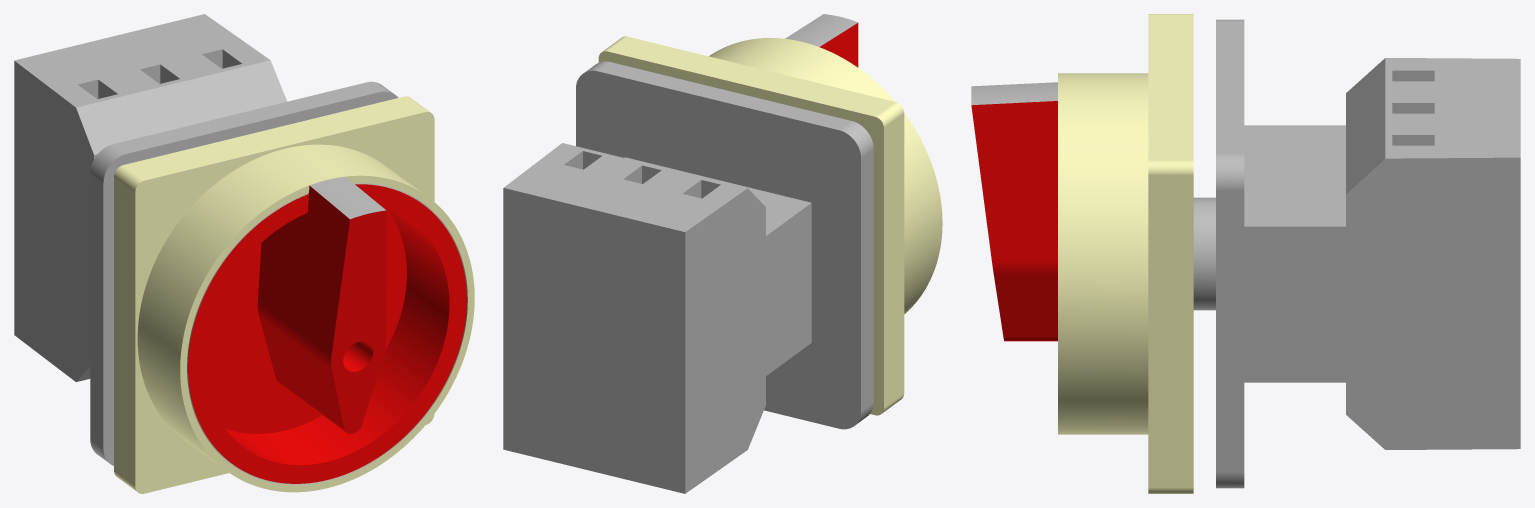
File: GLD11-25.glb
3 views of the same model, side by side, from view 1: azimuth 30°, elevation 25°; view 2: azimuth 150°, elevation 25°; view 3: azimuth 270°, elevation 25° (orthographic). The views are drawn at different scales.
Parts seen in each view (by area): view 1: _GLD11-25_54, _GLD11-25_55, _GLD11-25_10, _GLD11-25_111, _GLD11-25_109, _GLD11-25_15, _GLD11-25_61, _GLD11-25_100, _GLD11-25_60, _GLD11-25_99, _GLD11-25_90, _GLD11-25_44 (+12 smaller); view 2: _GLD11-25_62, _GLD11-25_33, _GLD11-25_54, _GLD11-25_61, _GLD11-25_10, _GLD11-25_38, _GLD11-25_34, _GLD11-25_44, _GLD11-25_46, _GLD11-25_25, _GLD11-25_23, _GLD11-25_65 (+4 smaller); view 3: _GLD11-25_52, _GLD11-25_10, _GLD11-25_36, _GLD11-25_40, _GLD11-25_61, _GLD11-25_101, _GLD11-25_35, _GLD11-25_65, _GLD11-25_21, _GLD11-25_46, _GLD11-25_60, _GLD11-25_23 (+7 smaller).
Boxes of the visible parts, x1,y1,x2,y2 form: _GLD11-25_54: (14,61,93,381); _GLD11-25_55: (135,112,434,493); _GLD11-25_10: (137,144,423,369); _GLD11-25_111: (188,184,466,483); _GLD11-25_109: (205,206,406,433); _GLD11-25_15: (226,273,449,464); _GLD11-25_61: (14,14,270,107); _GLD11-25_100: (258,185,349,355); _GLD11-25_60: (76,60,287,154); _GLD11-25_99: (331,210,386,433); _GLD11-25_90: (180,175,474,492); _GLD11-25_44: (114,177,135,485); _GLD11-25_62: (503,188,685,493); _GLD11-25_33: (576,70,860,429); _GLD11-25_54: (685,188,765,493); _GLD11-25_61: (504,143,747,231); _GLD11-25_10: (709,38,942,250); _GLD11-25_38: (766,203,811,375); _GLD11-25_34: (598,51,883,415); _GLD11-25_44: (884,113,904,407); _GLD11-25_46: (607,36,894,116); _GLD11-25_25: (861,149,873,410); _GLD11-25_23: (598,62,851,129); _GLD11-25_65: (904,223,942,313); _GLD11-25_52: (1346,157,1520,449); _GLD11-25_10: (1058,73,1148,330); _GLD11-25_36: (1244,226,1345,382); _GLD11-25_40: (1148,175,1193,487); _GLD11-25_61: (1385,58,1520,158); _GLD11-25_101: (971,101,1057,259); _GLD11-25_35: (1244,125,1345,226); _GLD11-25_65: (1058,330,1148,434); _GLD11-25_21: (1216,191,1244,471); _GLD11-25_46: (1148,15,1193,160); _GLD11-25_60: (1346,58,1385,193); _GLD11-25_23: (1216,22,1244,153).
Bounding box in the file's own units: 65 × 65 × 97.4.
